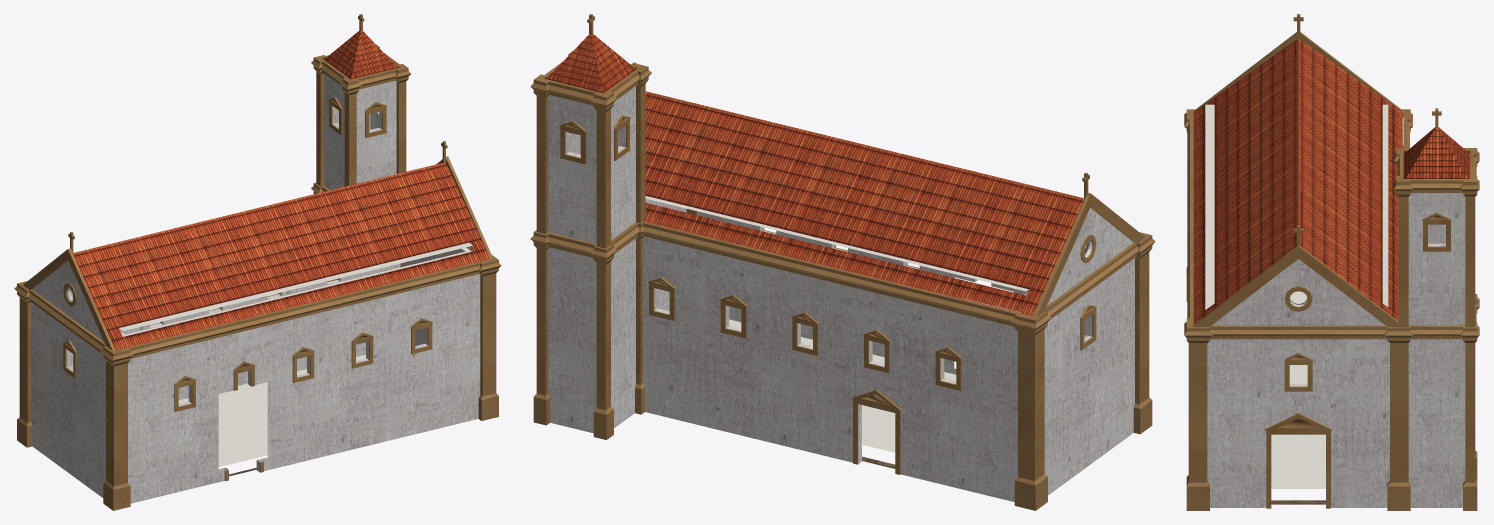
Rendered from chapel.groundlift-v1.lod1.glb.
3 renders of one model, left to right at view 1: azimuth 30°, elevation 25°; view 2: azimuth 150°, elevation 25°; view 3: azimuth 270°, elevation 25°, orthographic. The views are drawn at different scales.
Parts seen in each view (by area): view 1: Object_6, Object_5, Object_4, Walkable floors and stairs; view 2: Object_6, Object_5, Object_4, Walkable floors and stairs; view 3: Object_6, Object_5, Object_4, Walkable floors and stairs.
Boxes of the visible parts, x1,y1,x2,y2 form: Object_6: (31,73,480,503); Object_5: (73,30,490,350); Object_4: (14,14,501,510); Walkable floors and stairs: (72,243,472,466); Object_6: (548,86,1134,501); Object_5: (546,34,1083,316); Object_4: (530,14,1155,510); Walkable floors and stairs: (645,196,1085,452); Object_6: (1207,117,1465,507); Object_5: (1193,39,1470,324); Object_4: (1184,14,1479,510); Walkable floors and stairs: (1205,104,1388,488).
Bounding box in the file's own units: 12 × 9.75 × 6.78.
5 materials, 4 textured.
